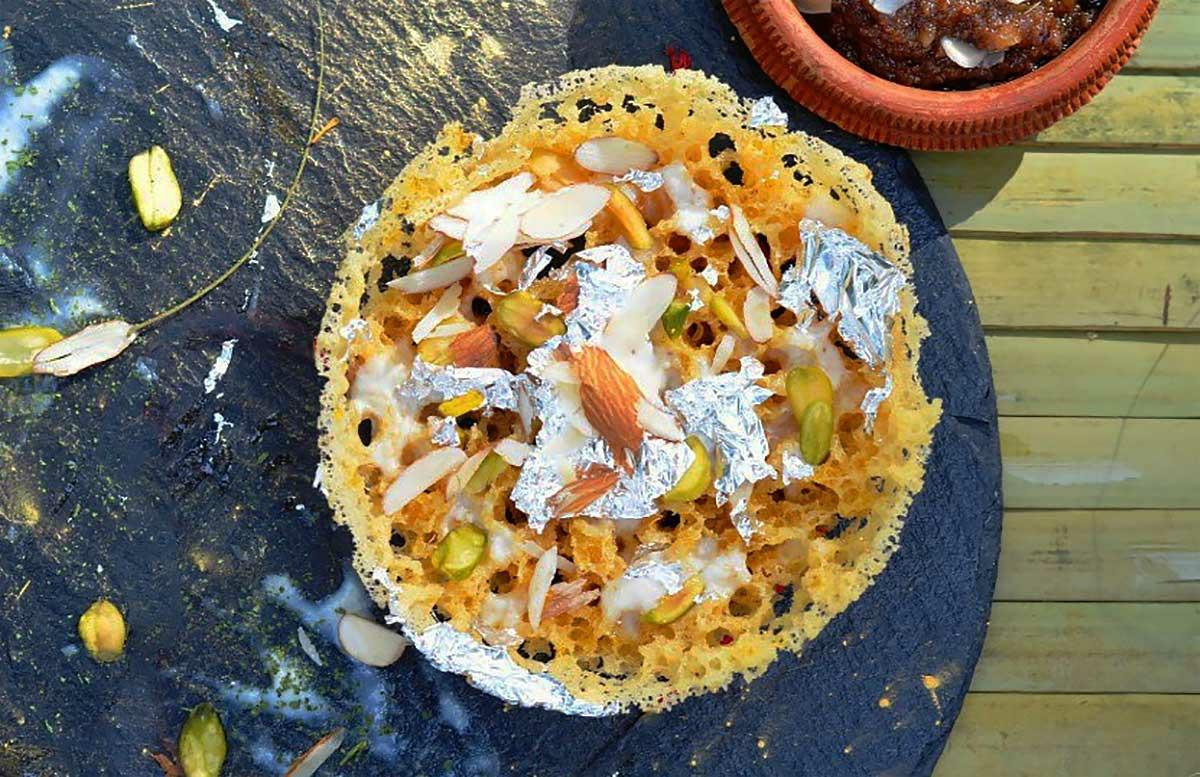Ghevar: (315, 63, 950, 721)
